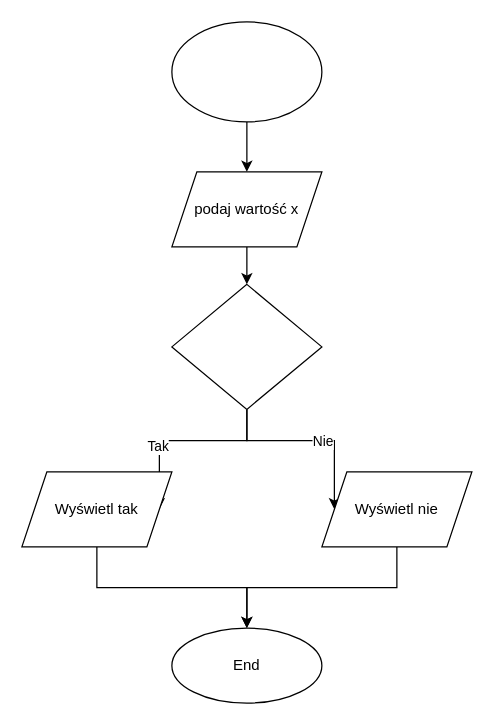
Image size: 494x725. Some labels were removed from this diagram. Each missing label, with the box of its shape:
Czy liczba jest narcystyczna?: (171, 283, 322, 409)
Start: (171, 21, 322, 122)
